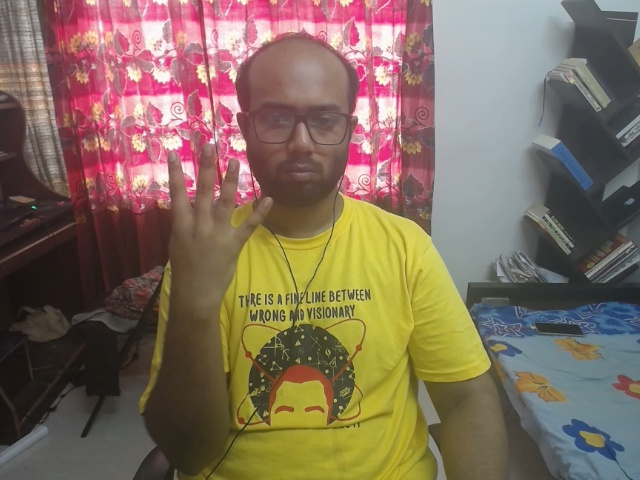four: (152, 136, 295, 296)
